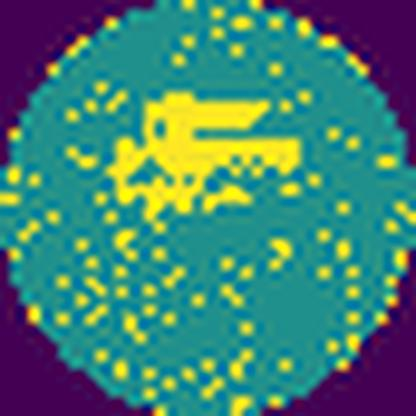Loc: (109, 92, 305, 218)
